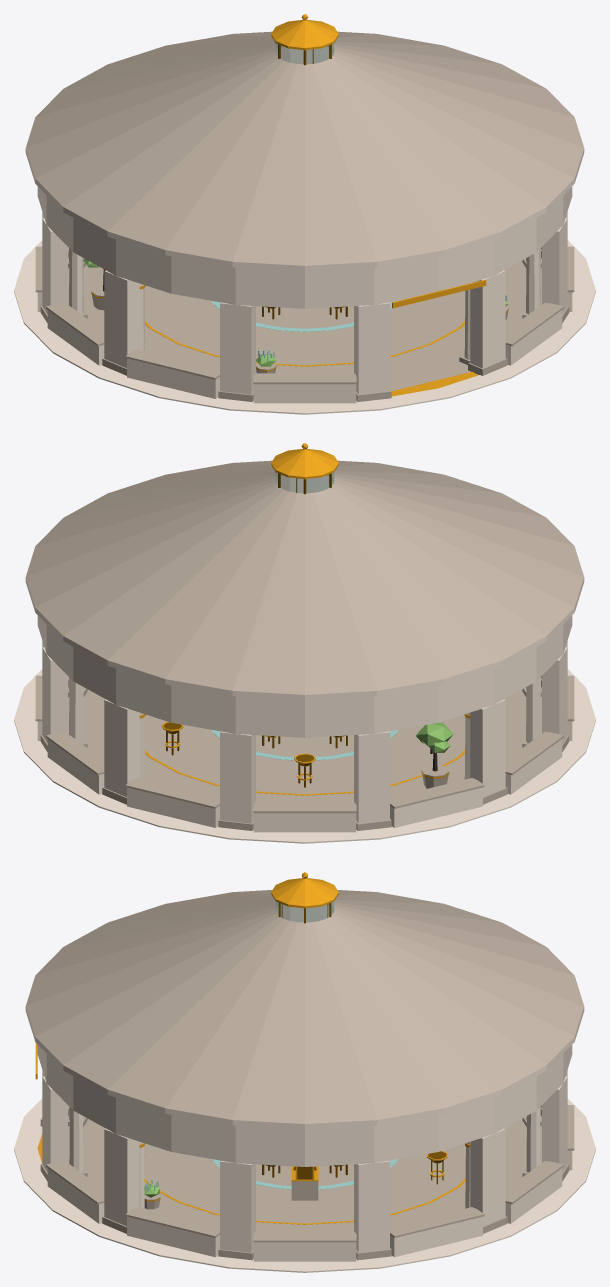
The picture shows the model from 3 angles, top to bottom: view 1: azimuth 30°, elevation 25°; view 2: azimuth 150°, elevation 25°; view 3: azimuth 270°, elevation 25°; orthographic projection.
Parts seen in each view (by area): view 1: tholos; view 2: tholos; view 3: tholos.
Boxes of the visible parts, left/top/right/bottom form: tholos: left=14, top=14, right=595, bottom=414; tholos: left=14, top=443, right=595, bottom=843; tholos: left=14, top=872, right=595, bottom=1272.
Size of the model in its own units: 19.8 by 10.4 by 19.8.
